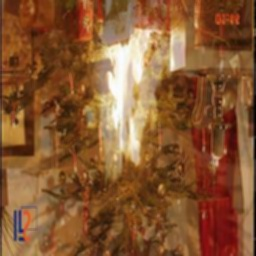fire: (98, 32, 172, 167)
